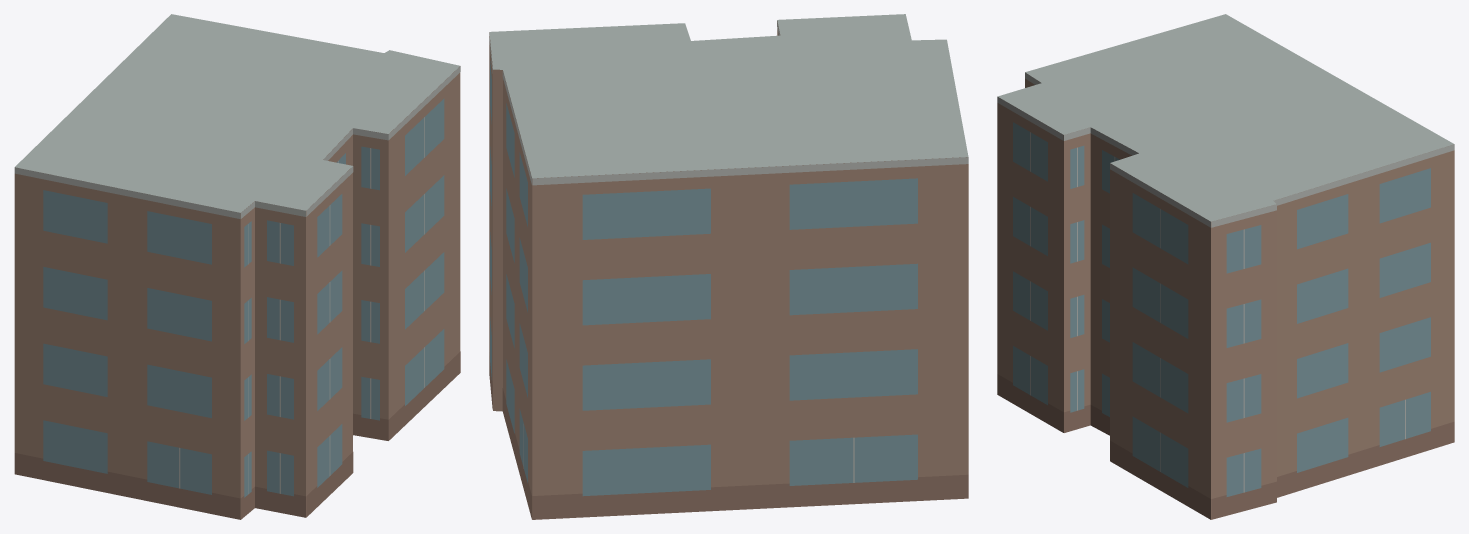
Rendered from survey-upis-32526492.glb.
The picture shows the model from 3 angles, left to right: view 1: azimuth 30°, elevation 25°; view 2: azimuth 150°, elevation 25°; view 3: azimuth 270°, elevation 25°; orthographic projection. The views are drawn at different scales.
Visible parts, largest first — view 1: survey-upis-32526492.tmp; view 2: survey-upis-32526492.tmp; view 3: survey-upis-32526492.tmp.
Boxes of the visible parts, x1,y1,x2,y2 form: survey-upis-32526492.tmp: (14, 14, 460, 519); survey-upis-32526492.tmp: (489, 14, 968, 519); survey-upis-32526492.tmp: (997, 14, 1454, 519).
Bounding box in the file's own units: 17.7 × 11.84 × 16.46.
